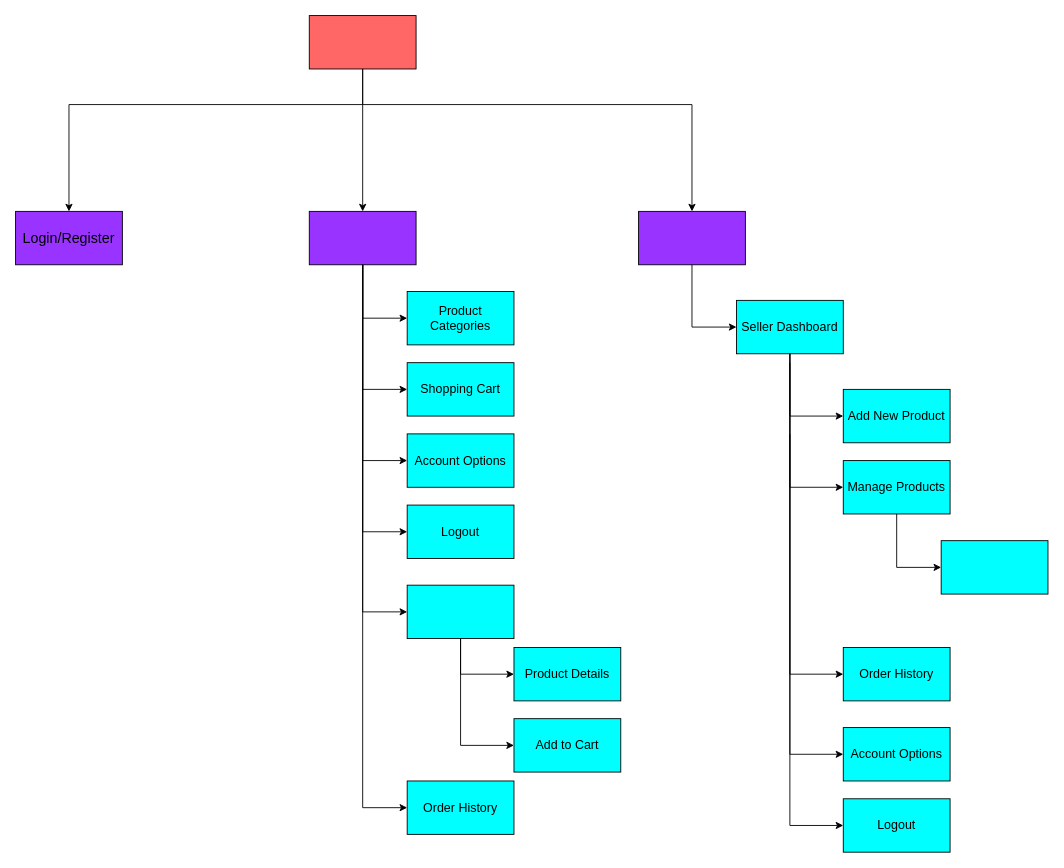
The diagram is 1064 pixels wide and 868 high, and some of its shapes have lost their labels. The shapes that lost their labels are listed below. From the top down, each one's box as (x1, y1, x2, y2) in pixels, then its label:
(308, 15, 416, 69): Home Page
(308, 210, 416, 265): Customer Home
(638, 210, 745, 265): Seller Login/Register
(940, 540, 1048, 594): Edit/Delete
(406, 584, 514, 639): Product Listing Pages
